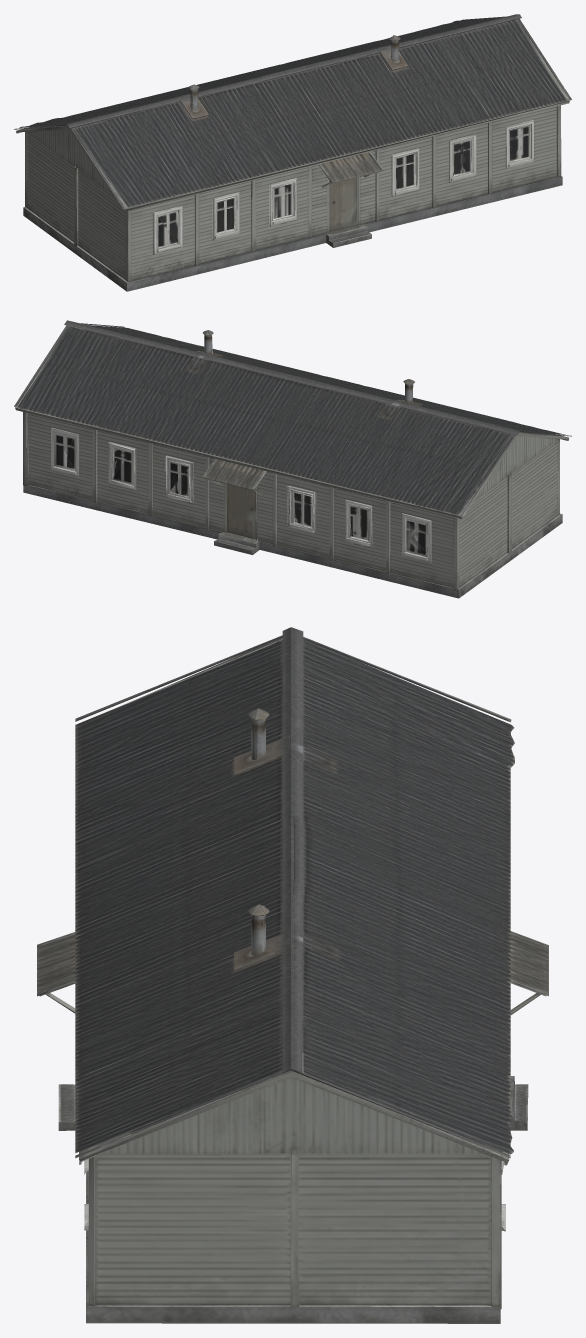
Rendered from house_barrack.glb.
The picture shows the model from 3 angles, top to bottom: view 1: azimuth 30°, elevation 25°; view 2: azimuth 150°, elevation 25°; view 3: azimuth 270°, elevation 25°; orthographic projection. The views are drawn at different scales.
Visible parts, largest first — view 1: Mesh_0; view 2: Mesh_0; view 3: Mesh_0.
Boxes of the visible parts, <box> form: Mesh_0: <box>14,14,571,291</box>; Mesh_0: <box>14,320,571,598</box>; Mesh_0: <box>37,627,548,1323</box>.
Bounding box in the file's own units: 0.9575 × 0.2998 × 0.4692.
Materials: 1 (1 with a texture image).
